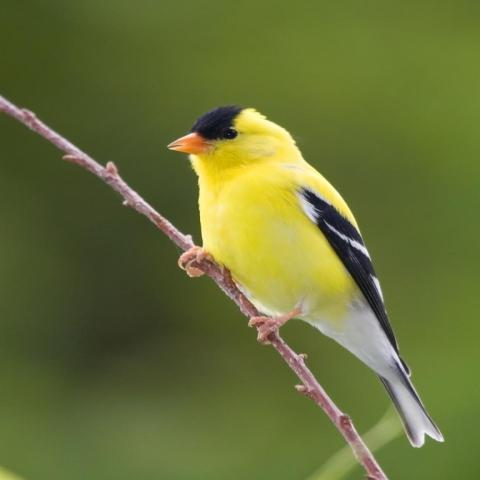bird: (164, 103, 445, 448)
